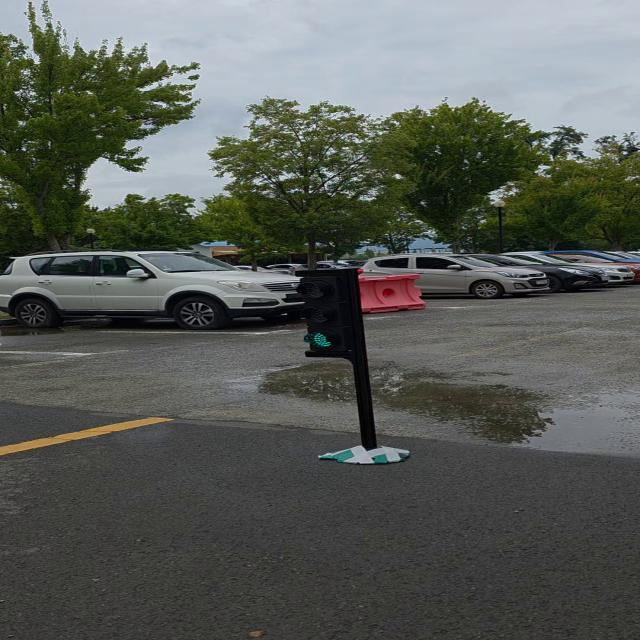green: (294, 270, 371, 359)
